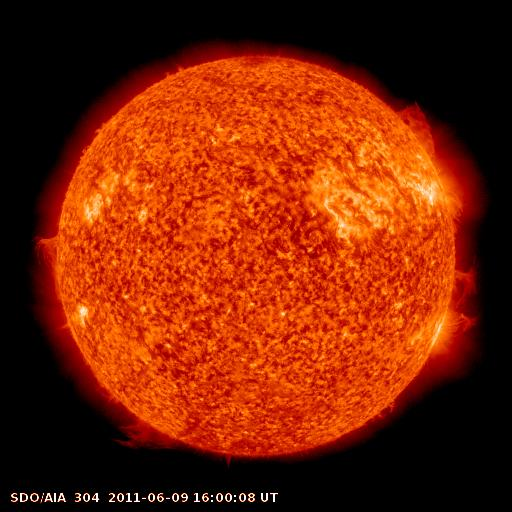prominence: (100, 397, 195, 460), (443, 253, 491, 337), (390, 95, 441, 168), (27, 227, 71, 297)
